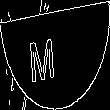M_N: (41, 27, 69, 83)
